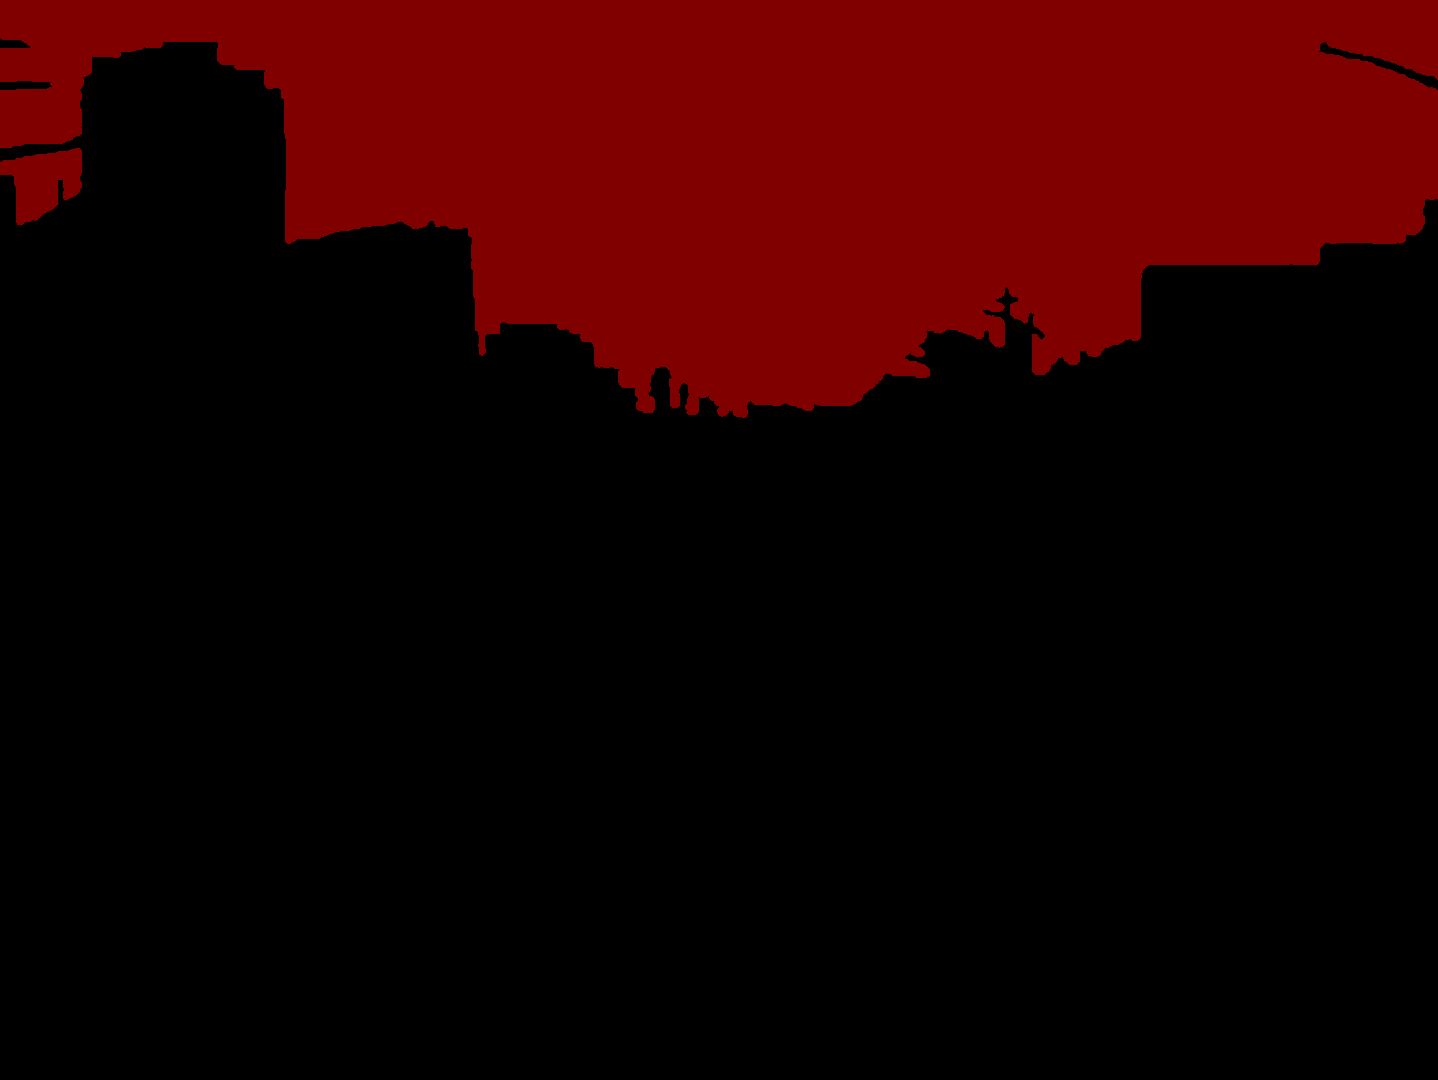Sky: (1, 1, 1437, 417)
